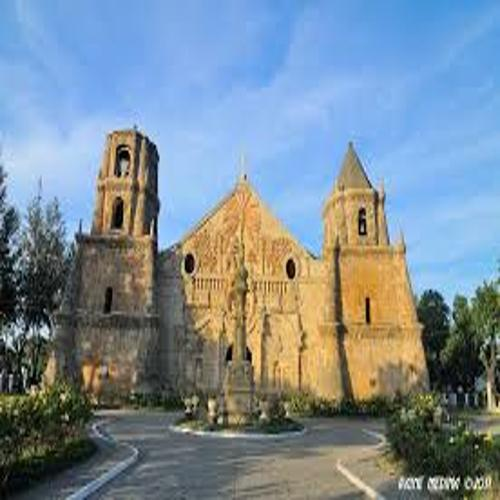Miagao Church: (48, 113, 435, 416)
